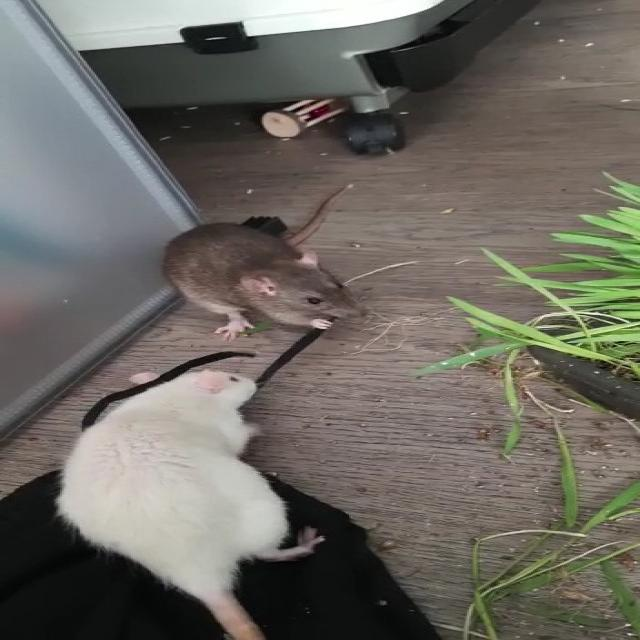rat: (60, 371, 321, 584), (159, 221, 371, 344)
